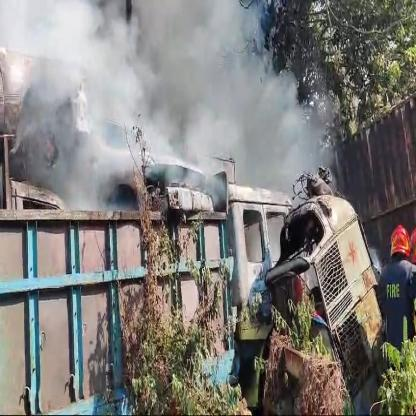Smoke: (0, 0, 321, 196)
